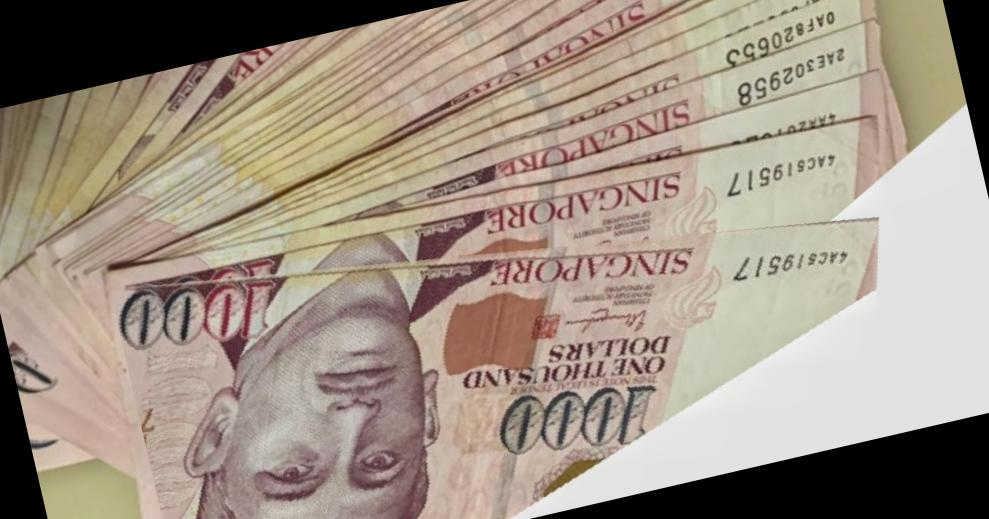1000SingaporeDollar: (108, 116, 926, 519)
